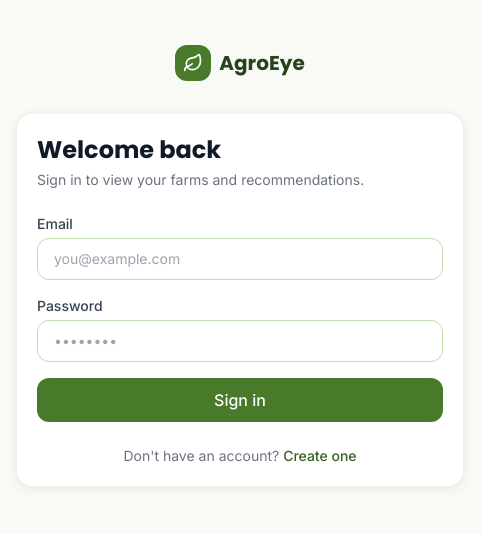
Test: Login page › shows an error message when login fails and does not navigate
Type "farmer@example.com" into the field labelled "Email" at [240, 259], box [37, 238, 443, 280]
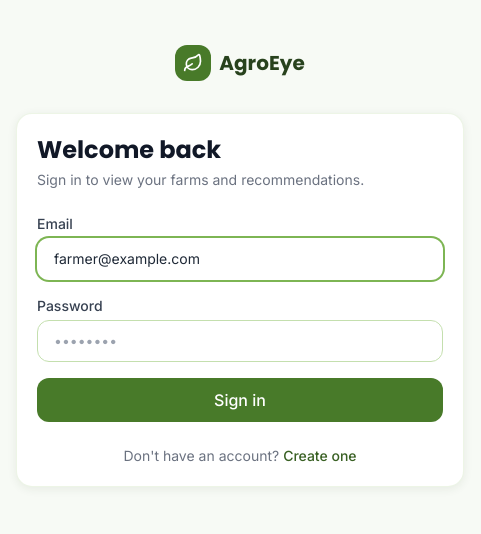
Type "wrongpass" into the password field labelled "Password" at [240, 341], box [37, 320, 443, 362]
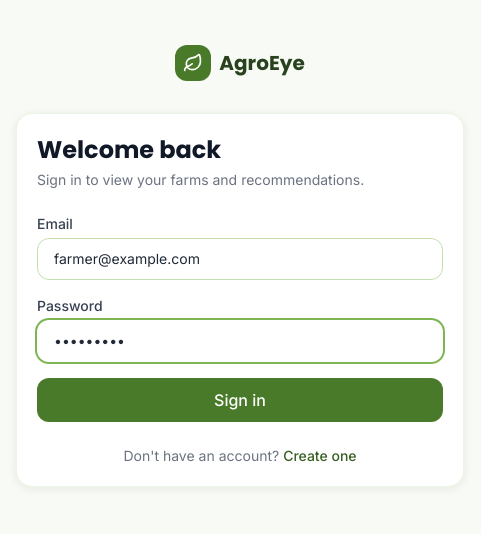
Click the button "Sign in" at [240, 400], box [37, 378, 443, 422]
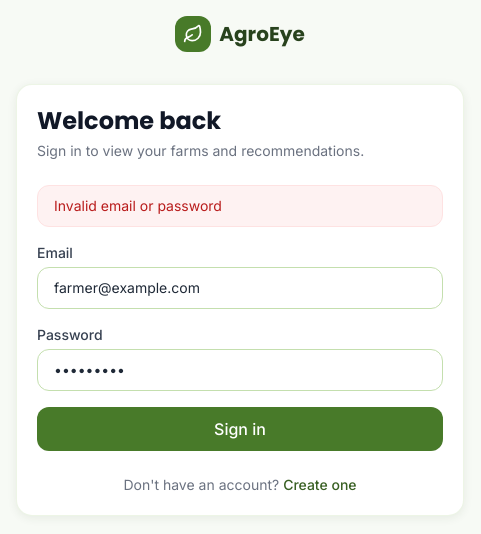
Expected: the text "Invalid email or password" is shown, [37, 185, 443, 227]
